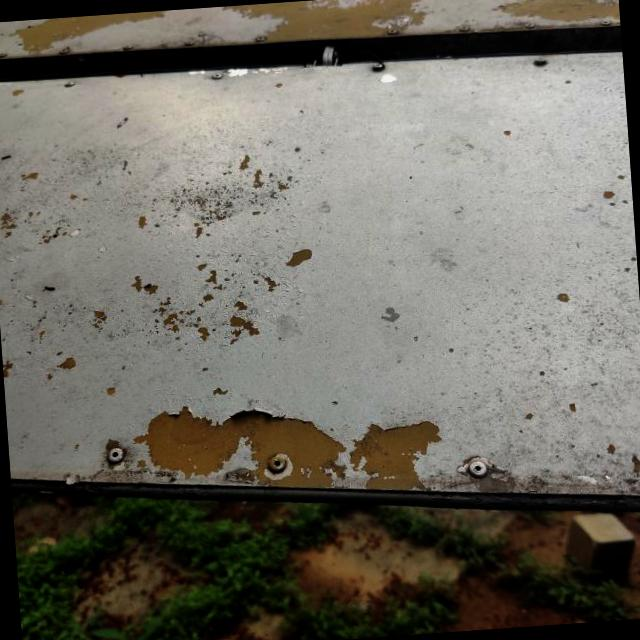paint-off: (121, 373, 462, 539)
